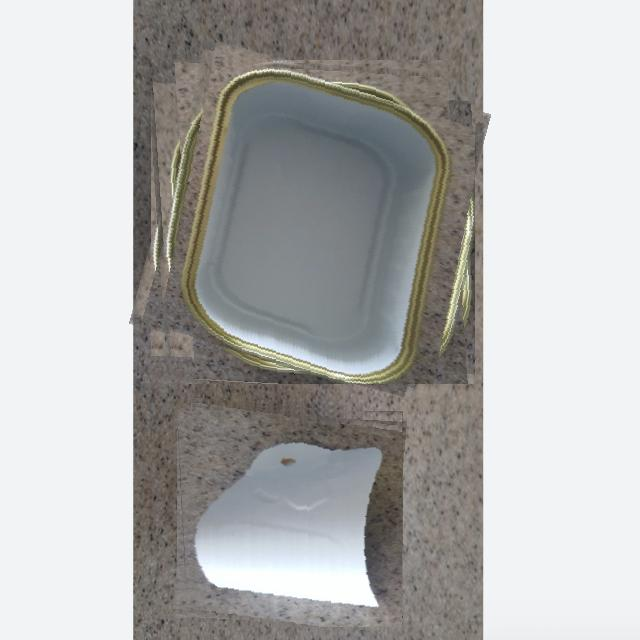recyclable: (146, 54, 475, 384), (176, 402, 402, 628)
